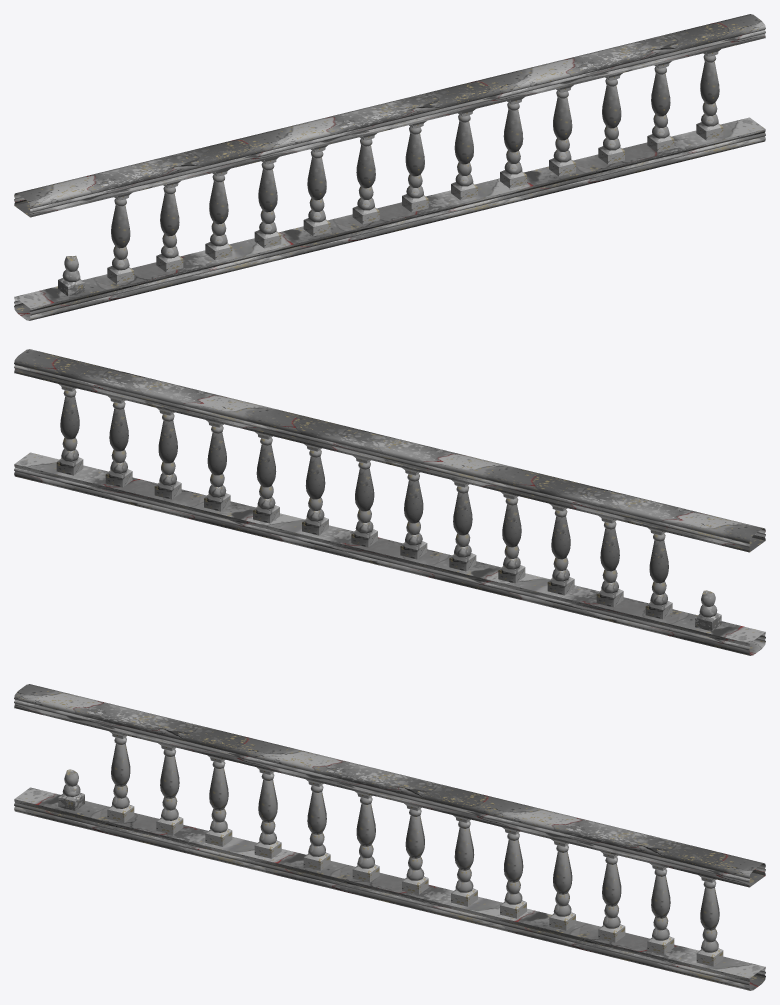
File: Railing_6.fbx
The picture shows the model from 3 angles, top to bottom: view 1: azimuth 30°, elevation 25°; view 2: azimuth 150°, elevation 25°; view 3: azimuth 330°, elevation 25°; orthographic projection.
Visible parts, largest first — view 1: Railing_6; view 2: Railing_6; view 3: Railing_6.
Boxes of the visible parts, <box> form: Railing_6: <box>14,14,765,320</box>; Railing_6: <box>14,349,765,655</box>; Railing_6: <box>14,684,765,990</box>.
Size of the model in its own units: 557 by 86.75 by 21.8.
